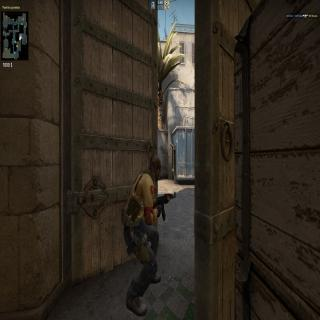T-Head: (149, 152, 162, 185)
